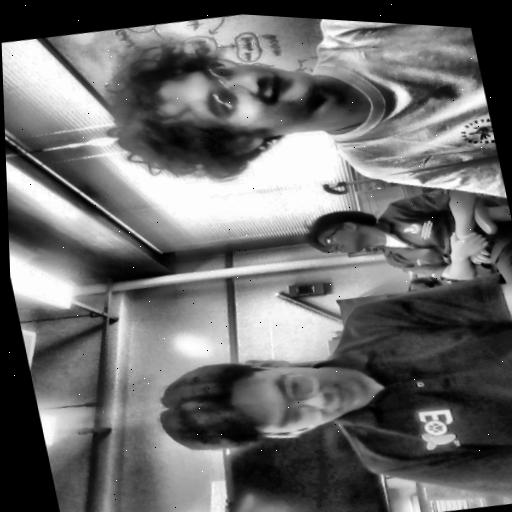Daifuku: (100, 17, 335, 214)
Not Daifuku: (155, 338, 361, 467), (294, 201, 384, 264)
